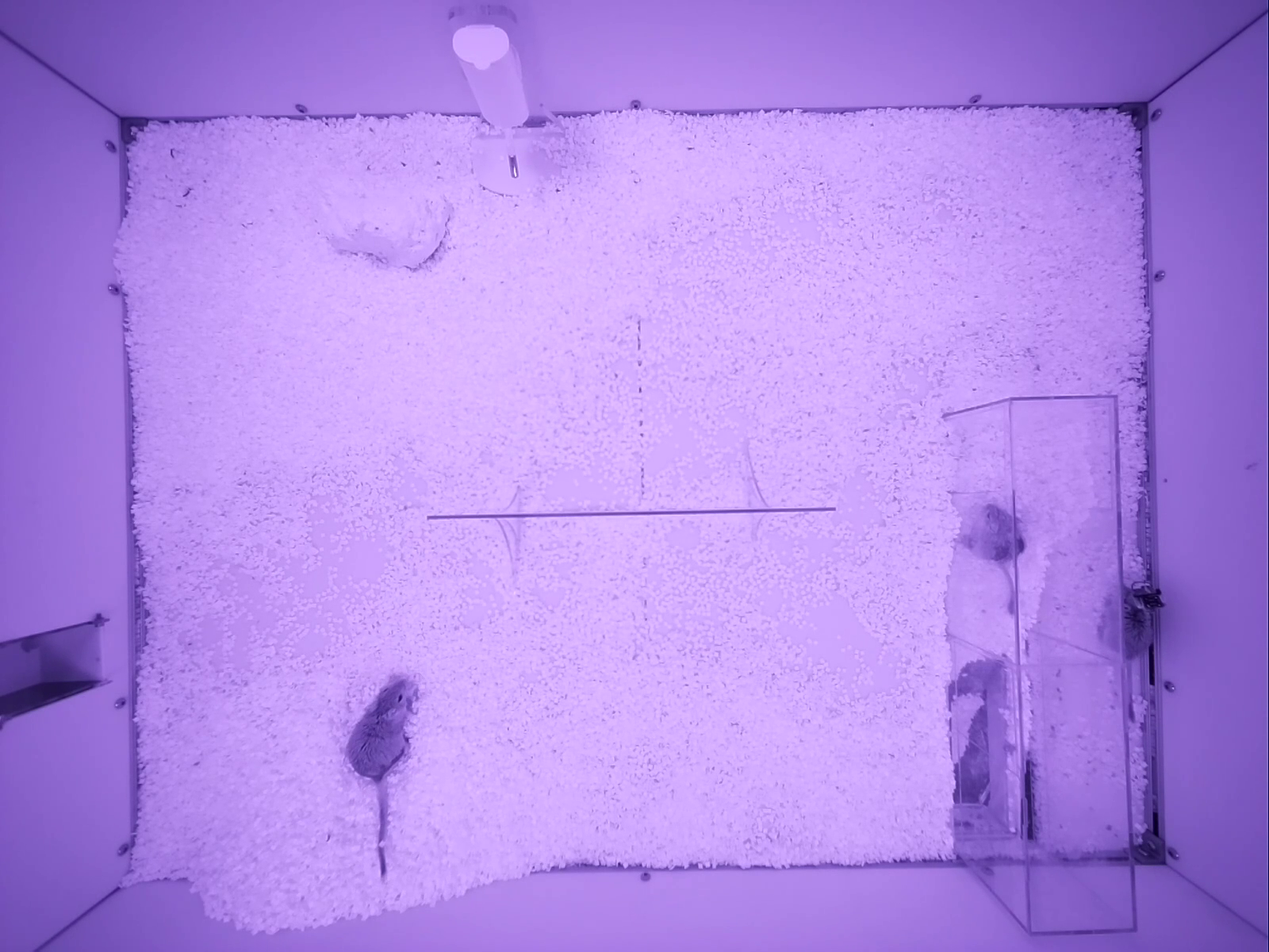adult_back: (346, 677, 418, 876), (960, 503, 1025, 613), (1118, 583, 1163, 658)
